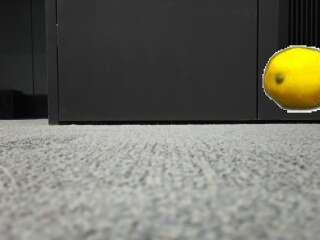lemon: (265, 48, 320, 109)
